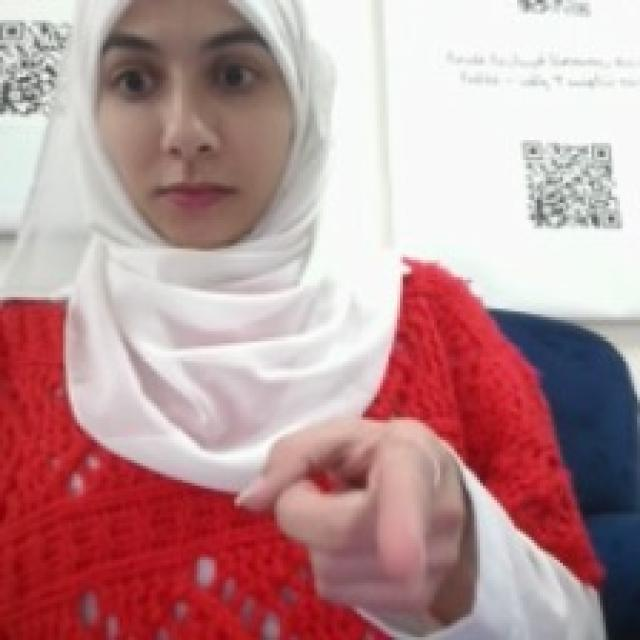you: (225, 406, 475, 623)
